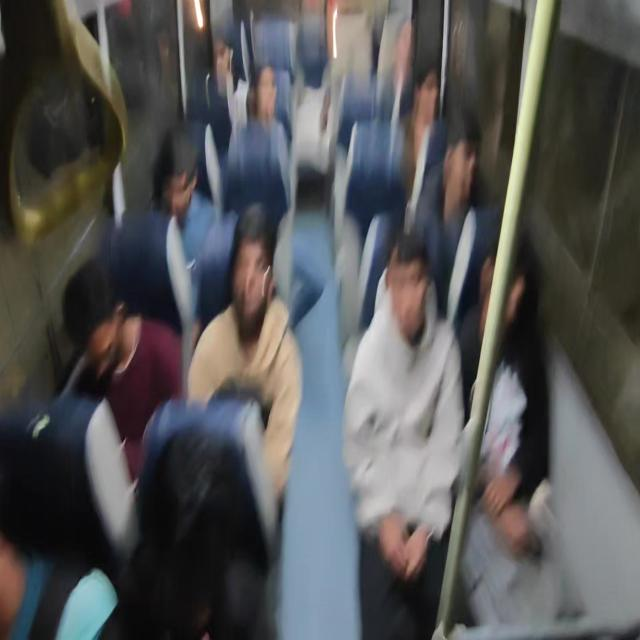person: (3, 1, 561, 637), (56, 392, 280, 638), (1, 257, 140, 637), (342, 228, 466, 638), (454, 238, 554, 628), (186, 201, 303, 514), (59, 256, 183, 482), (114, 124, 214, 334), (413, 109, 502, 333), (225, 62, 291, 226)
